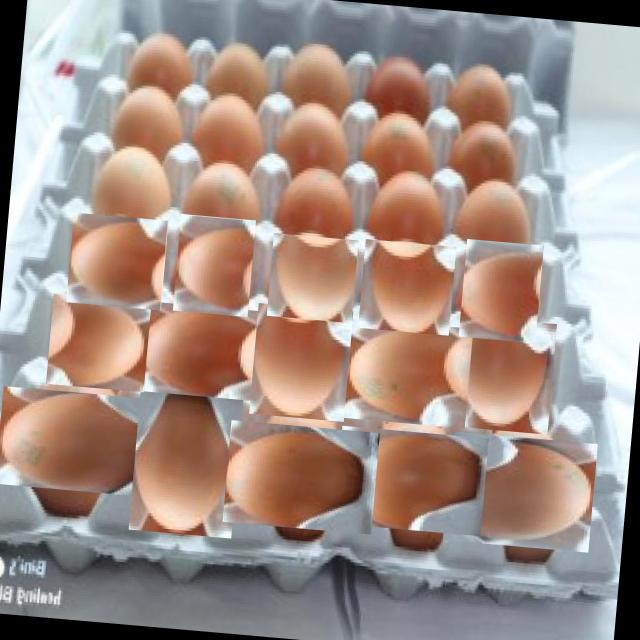eggs: (8, 372, 147, 512), (450, 422, 590, 560), (232, 409, 370, 546), (344, 414, 478, 548), (128, 386, 244, 538), (343, 310, 467, 434), (248, 302, 354, 422), (452, 315, 557, 435), (141, 294, 253, 406), (46, 291, 148, 393), (66, 212, 166, 312), (357, 238, 456, 336), (454, 243, 548, 338), (167, 218, 261, 312), (266, 232, 358, 323)
